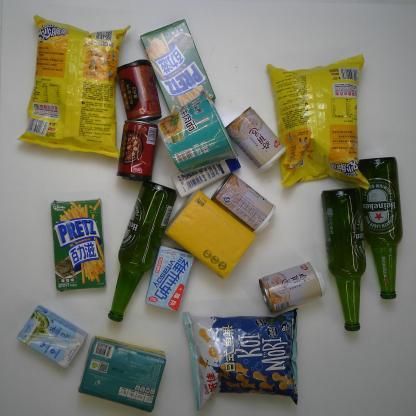Alcohol: (106, 177, 180, 324), (318, 184, 368, 333), (354, 154, 404, 301)
Canned Food: (223, 104, 289, 175), (209, 171, 278, 236), (258, 259, 327, 315), (112, 57, 164, 127), (114, 118, 160, 184)
Dessert: (138, 16, 219, 117), (46, 196, 108, 293)
Instant Noodles: (154, 86, 241, 179)
Milk: (14, 301, 91, 371), (143, 242, 197, 314)
Personal Hygiene: (168, 154, 243, 200)
Puffed Food: (14, 10, 133, 163), (262, 52, 372, 193), (180, 304, 307, 413)
Tissue: (163, 187, 259, 281), (75, 332, 169, 415)
